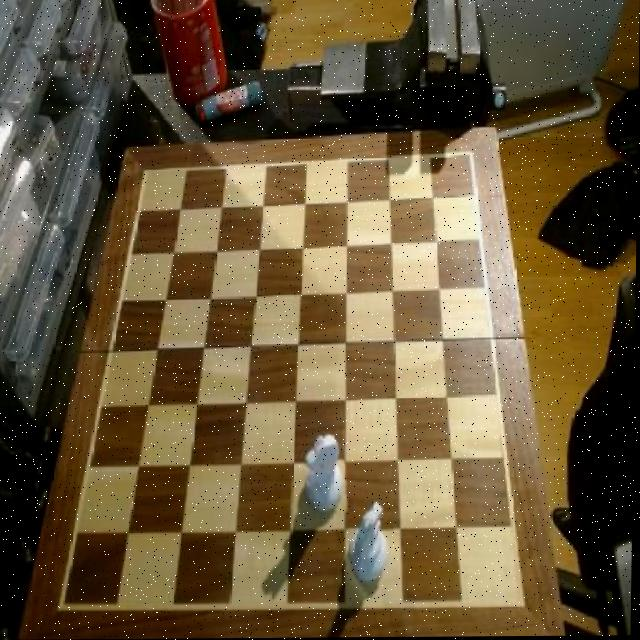white-king: (347, 498, 395, 587), (304, 432, 349, 516)
